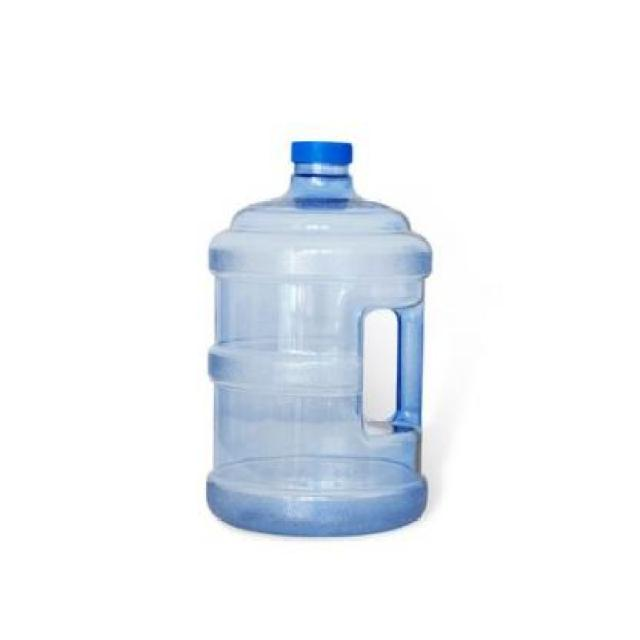coolerbottle: (202, 138, 439, 542)
